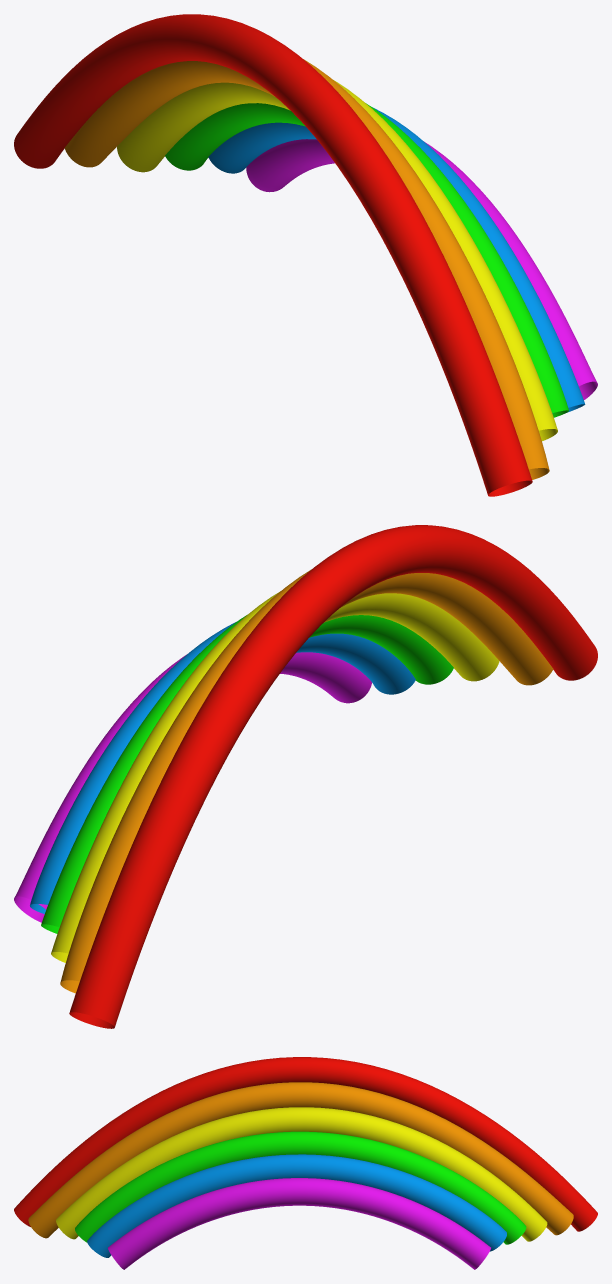
Rendered from rainbowNoClouds.fbx.
3 renders of one model, top to bottom at view 1: azimuth 30°, elevation 25°; view 2: azimuth 150°, elevation 25°; view 3: azimuth 270°, elevation 25°, orthographic. The views are drawn at different scales.
Visible parts, largest first — view 1: NurbsPath.006, NurbsPath.005, NurbsPath.004, NurbsPath.003, NurbsPath.002, NurbsPath.001; view 2: NurbsPath.006, NurbsPath.005, NurbsPath.004, NurbsPath.003, NurbsPath.002, NurbsPath.001; view 3: NurbsPath.006, NurbsPath.005, NurbsPath.004, NurbsPath.001, NurbsPath.002, NurbsPath.003.
Part boxes in pixels (x1=…): NurbsPath.006: x1=14, y1=14, x2=532, y2=496; NurbsPath.005: x1=64, y1=59, x2=549, y2=479; NurbsPath.004: x1=117, y1=80, x2=557, y2=441; NurbsPath.003: x1=165, y1=103, x2=568, y2=417; NurbsPath.002: x1=208, y1=107, x2=585, y2=413; NurbsPath.001: x1=246, y1=139, x2=597, y2=399; NurbsPath.006: x1=69, y1=525, x2=597, y2=1028; NurbsPath.005: x1=60, y1=569, x2=553, y2=993; NurbsPath.004: x1=51, y1=591, x2=499, y2=962; NurbsPath.003: x1=41, y1=614, x2=453, y2=933; NurbsPath.002: x1=30, y1=622, x2=415, y2=913; NurbsPath.001: x1=14, y1=652, x2=371, y2=922; NurbsPath.006: x1=14, y1=1057, x2=597, y2=1231; NurbsPath.005: x1=28, y1=1082, x2=573, y2=1238; NurbsPath.004: x1=56, y1=1107, x2=547, y2=1241; NurbsPath.001: x1=108, y1=1178, x2=490, y2=1269; NurbsPath.002: x1=87, y1=1154, x2=506, y2=1257; NurbsPath.003: x1=75, y1=1131, x2=526, y2=1244.
Size of the model in its own units: 386 by 576 by 1775.
